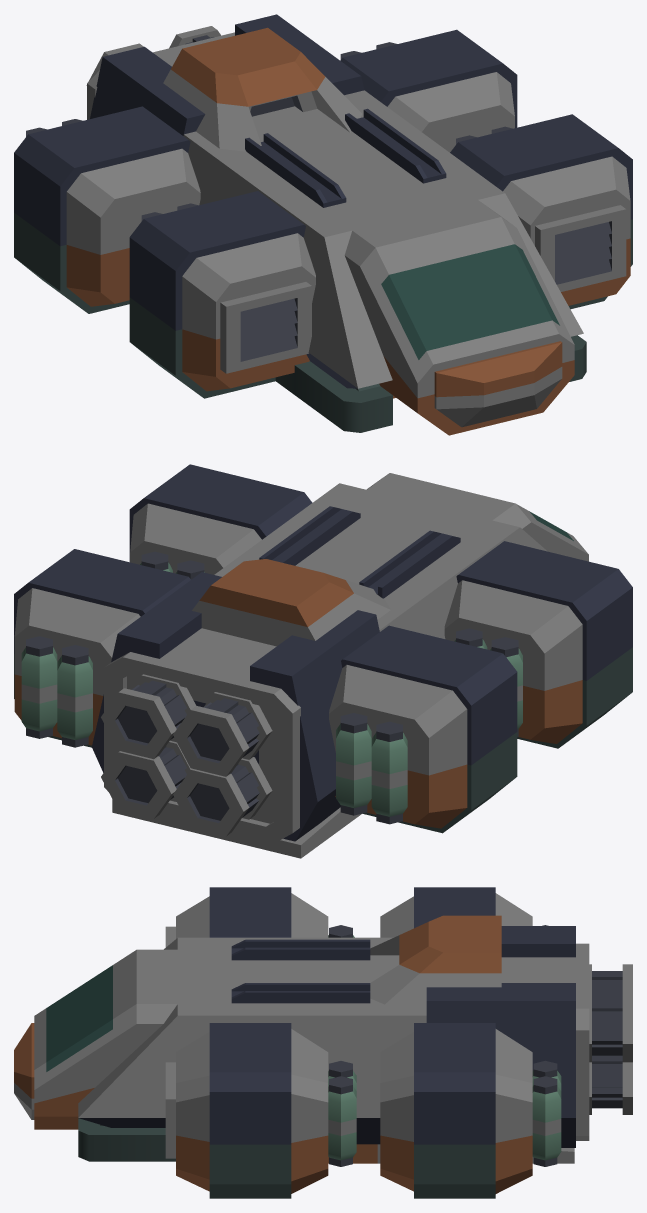
Rendered from Ship01.fbx.
The picture shows the model from 3 angles, top to bottom: view 1: azimuth 30°, elevation 25°; view 2: azimuth 150°, elevation 25°; view 3: azimuth 270°, elevation 25°; orthographic projection. The views are drawn at different scales.
Visible parts, largest first — view 1: mergedBlocks; view 2: mergedBlocks; view 3: mergedBlocks.
Boxes of the visible parts, x1=… form: mergedBlocks: x1=14, y1=14, x2=632, y2=435; mergedBlocks: x1=14, y1=464, x2=632, y2=858; mergedBlocks: x1=14, y1=887, x2=632, y2=1198.
Bounding box in the file's own units: 32 × 15 × 42.4.
